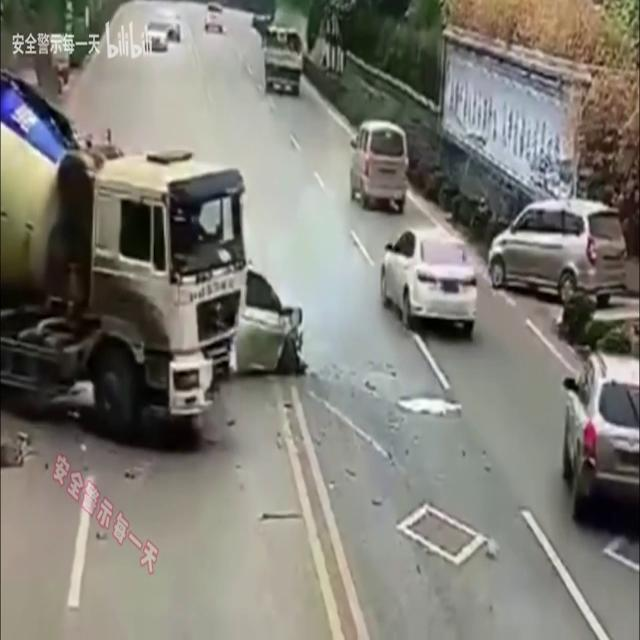multiple_accident: (0, 101, 309, 474)
normal: (547, 271, 638, 571), (363, 200, 512, 365), (242, 18, 335, 100)
